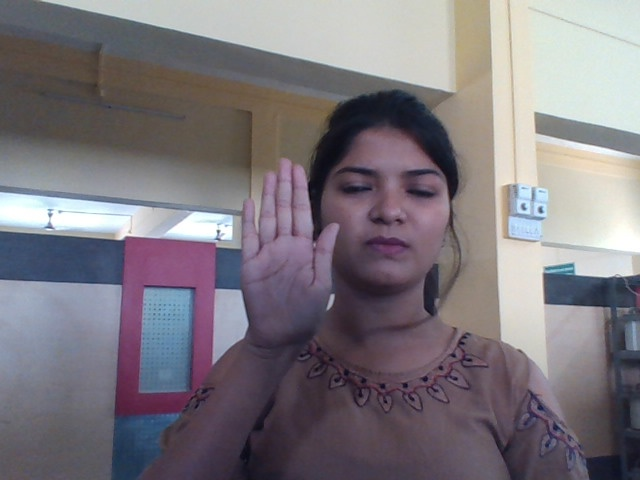hello: (236, 156, 341, 348)
